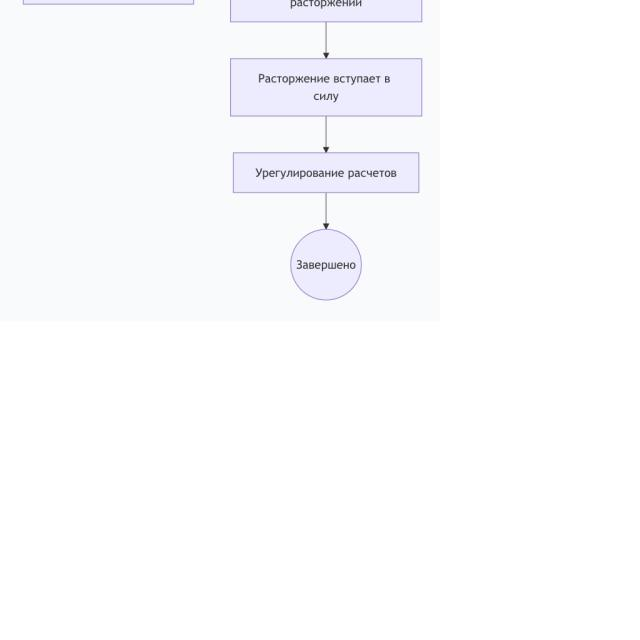arrow: (322, 194, 329, 229), (323, 117, 329, 152), (324, 22, 329, 58)
circle: (277, 215, 376, 314)
rectangle: (234, 153, 419, 193), (318, 78, 324, 82)
